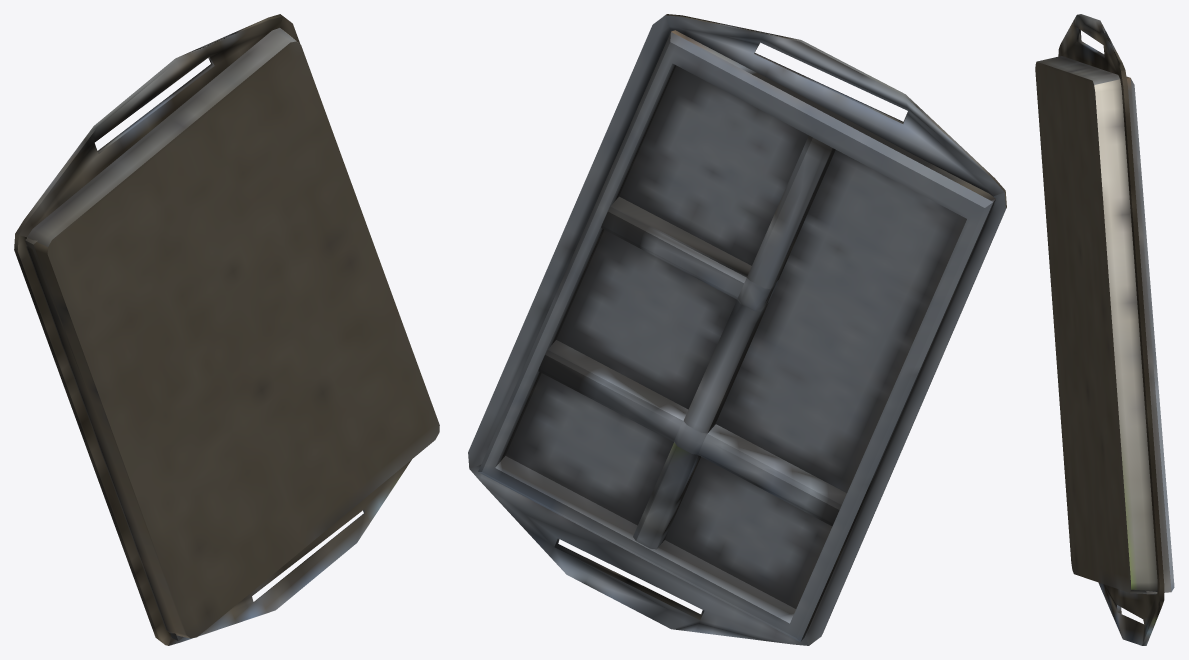
Rendered from H_MessTray.fbx.
3 renders of one model, left to right at view 1: azimuth 30°, elevation 25°; view 2: azimuth 150°, elevation 25°; view 3: azimuth 270°, elevation 25°, orthographic. The views are drawn at different scales.
Parts seen in each view (by area): view 1: MessTray.001; view 2: MessTray.001; view 3: MessTray.001.
Boxes of the visible parts, bbox=[...] form: MessTray.001: bbox=[14, 14, 439, 645]; MessTray.001: bbox=[468, 14, 1006, 645]; MessTray.001: bbox=[1035, 14, 1174, 645].
Bounding box in the file's own units: 74.16 × 89.67 × 19.71.
